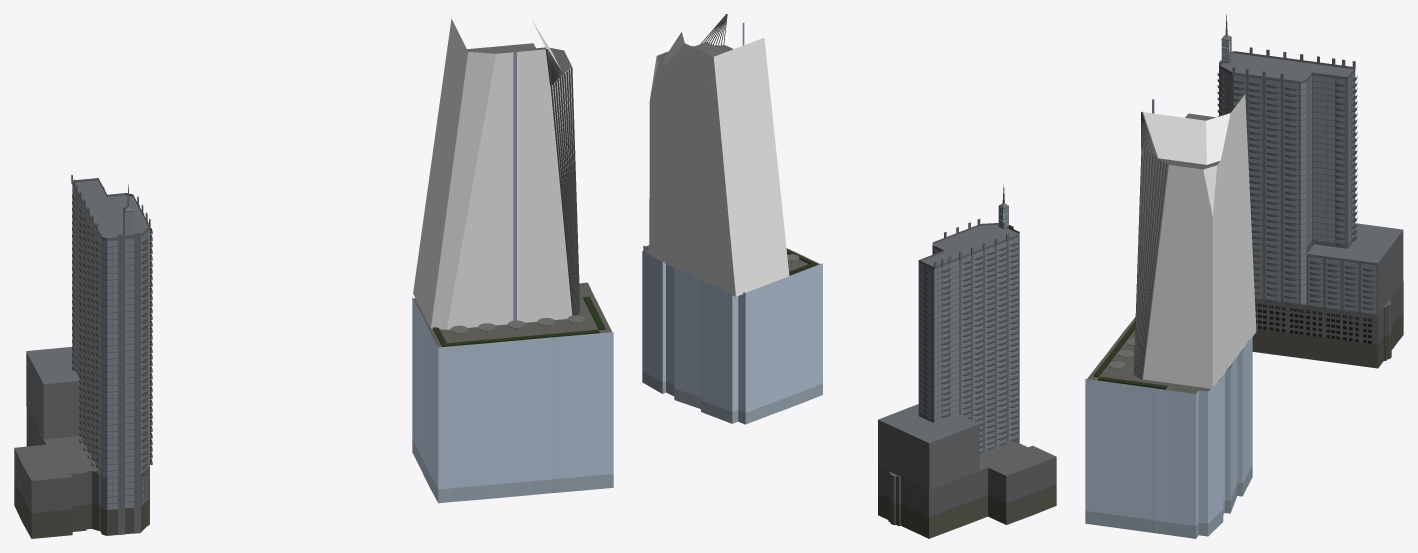
The picture shows the model from 3 angles, left to right: view 1: azimuth 30°, elevation 25°; view 2: azimuth 150°, elevation 25°; view 3: azimuth 270°, elevation 25°; orthographic projection. The views are drawn at different scales.
Parts seen in each view (by area): view 1: glass, opaque; view 2: glass, opaque; view 3: glass, opaque.
Part boxes in pixels (x1,y1,x2,y2): glass: [72, 18, 613, 509]; opaque: [14, 43, 611, 538]; glass: [642, 22, 1019, 451]; opaque: [645, 14, 1056, 538]; glass: [1085, 38, 1376, 538]; opaque: [1087, 14, 1403, 393].
Bounding box in the file's own units: 278 × 216 × 158.
2 materials, 2 textured.
